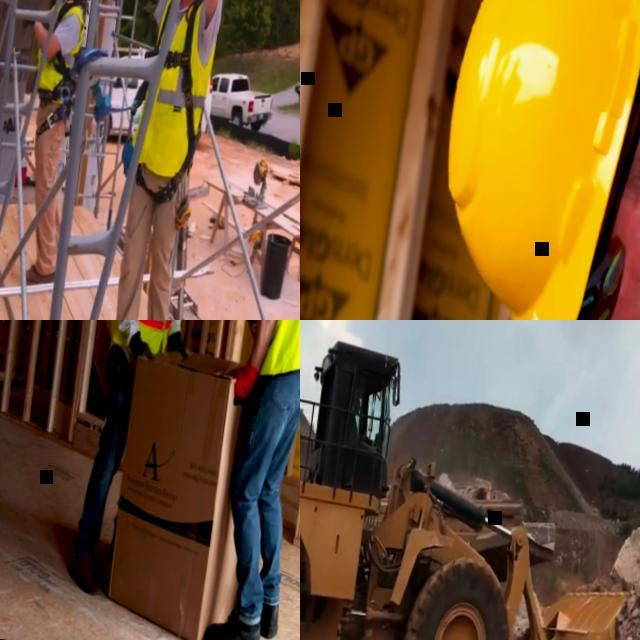helmet: (417, 0, 640, 320)
vest: (129, 0, 222, 179), (33, 0, 89, 93), (104, 320, 205, 369)
